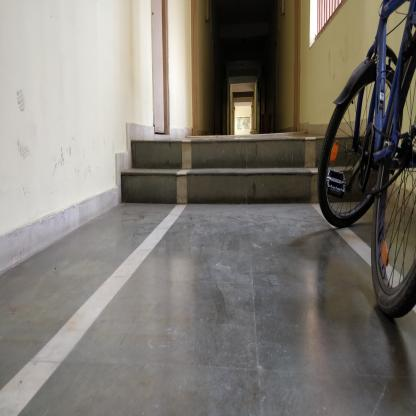stairs: (134, 135, 317, 210)
